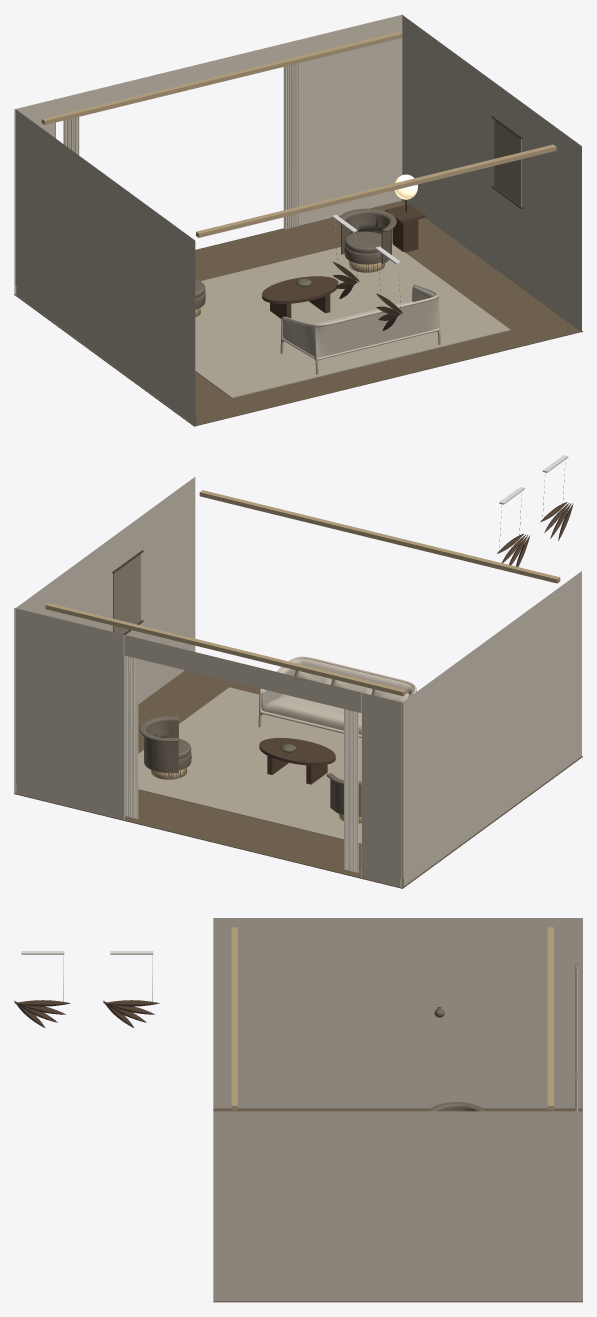
The model's file is great-2.glb.
3 renders of one model, top to bottom at view 1: azimuth 30°, elevation 25°; view 2: azimuth 150°, elevation 25°; view 3: azimuth 270°, elevation 25°, orthographic. The views are drawn at different scales.
Parts seen in each view (by area): view 1: DESIGN | great removable wall finish, DESIGN | Great room primary ground, DESIGN | great floor finish, DESIGN | Great room sofa facing conversation, DESIGN | Required Bellustar swivel chair two, DESIGN | Retreat concealed light edge.001, DESIGN | Retreat concealed light edge, DESIGN | Great room soft window edge.001, DESIGN | Great room linen hanging, DESIGN | R7 low conversation table, DESIGN | Side reading perch base, DESIGN | Great room soft window edge; view 2: DESIGN | great removable wall finish, DESIGN | Great room primary ground, DESIGN | great floor finish, DESIGN | Great room sofa facing conversation, DESIGN | Retreat concealed light edge, DESIGN | Retreat concealed light edge.001, DESIGN | Required Bellustar swivel chair two, DESIGN | Great room soft window edge, DESIGN | Great room soft window edge.001, DESIGN | Great room linen hanging, DESIGN | R7 low conversation table, DESIGN | Required Bellustar swivel chair one (+1 smaller); view 3: DESIGN | great removable wall finish, DESIGN | great floor finish, DESIGN | Retreat concealed light edge, DESIGN | Retreat concealed light edge.001, DESIGN | Required Flou pendant 2, DESIGN | Required Flou pendant 1.
Part boxes in pixels (<box>): DESIGN | great removable wall finish: <box>14,14,581,425</box>; DESIGN | Great room primary ground: <box>195,243,510,398</box>; DESIGN | great floor finish: <box>14,200,582,426</box>; DESIGN | Great room sofa facing conversation: <box>280,284,440,374</box>; DESIGN | Required Bellustar swivel chair two: <box>339,208,396,272</box>; DESIGN | Retreat concealed light edge.001: <box>41,31,402,124</box>; DESIGN | Retreat concealed light edge: <box>196,144,556,237</box>; DESIGN | Great room soft window edge.001: <box>283,63,299,229</box>; DESIGN | Great room linen hanging: <box>494,120,521,206</box>; DESIGN | R7 low conversation table: <box>262,276,338,303</box>; DESIGN | Side reading perch base: <box>393,219,418,252</box>; DESIGN | Great room soft window edge: <box>63,117,79,155</box>; DESIGN | great removable wall finish: <box>14,477,581,887</box>; DESIGN | Great room primary ground: <box>138,687,361,844</box>; DESIGN | great floor finish: <box>14,670,582,888</box>; DESIGN | Great room sofa facing conversation: <box>258,656,416,737</box>; DESIGN | Retreat concealed light edge: <box>199,490,560,583</box>; DESIGN | Retreat concealed light edge.001: <box>45,603,406,696</box>; DESIGN | Required Bellustar swivel chair two: <box>139,715,191,779</box>; DESIGN | Great room soft window edge: <box>344,709,358,873</box>; DESIGN | Great room soft window edge.001: <box>124,655,138,819</box>; DESIGN | Great room linen hanging: <box>113,554,140,634</box>; DESIGN | R7 low conversation table: <box>259,738,335,765</box>; DESIGN | Required Bellustar swivel chair one: <box>326,773,361,823</box>; DESIGN | great removable wall finish: <box>213,918,582,1301</box>; DESIGN | great floor finish: <box>213,1108,582,1302</box>; DESIGN | Retreat concealed light edge: <box>231,927,237,1110</box>; DESIGN | Retreat concealed light edge.001: <box>547,927,553,1110</box>; DESIGN | Required Flou pendant 2: <box>103,1000,159,1027</box>; DESIGN | Required Flou pendant 1: <box>14,1000,70,1028</box>.
Size of the model in its own units: 6 by 3.04 by 7.42.
